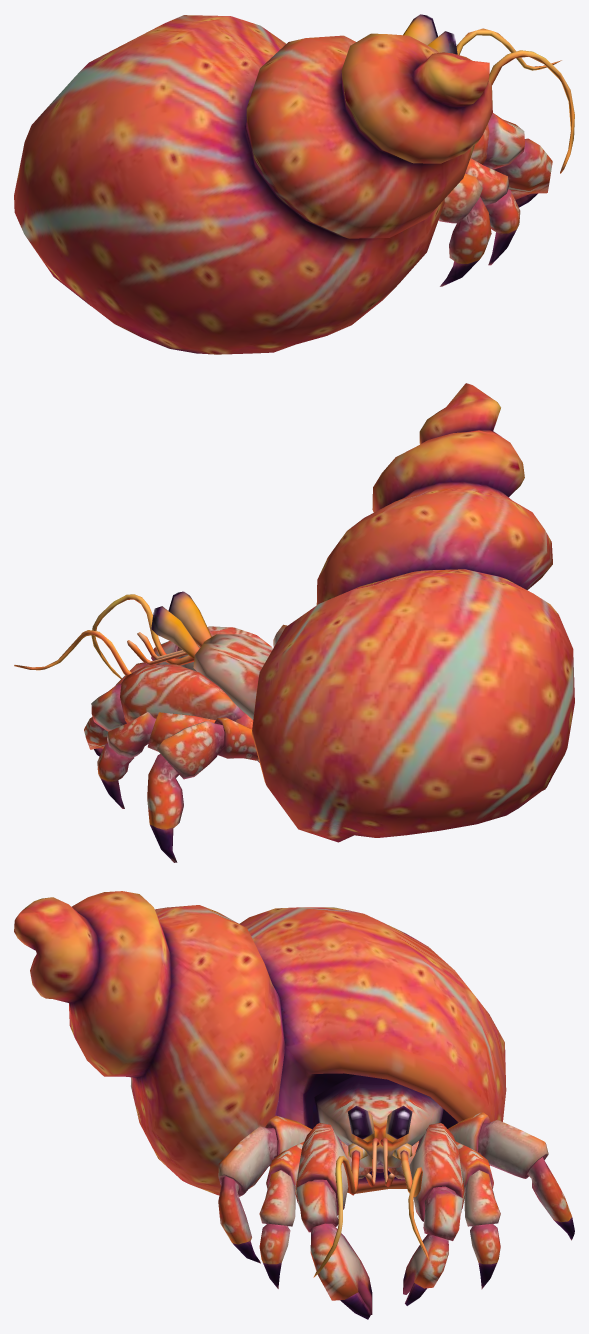
Rendered from hermit-crab.glb.
The picture shows the model from 3 angles, top to bottom: view 1: azimuth 30°, elevation 25°; view 2: azimuth 150°, elevation 25°; view 3: azimuth 270°, elevation 25°; orthographic projection. The views are drawn at different scales.
Parts seen in each view (by area): view 1: HermitCrab; view 2: HermitCrab; view 3: HermitCrab.
Part boxes in pixels (<box>): HermitCrab: <box>14,14,574,354</box>; HermitCrab: <box>14,383,574,862</box>; HermitCrab: <box>14,891,574,1319</box>.
Bounding box in the file's own units: 1.2 × 0.6877 × 1.13.
1 material, 1 textured.
